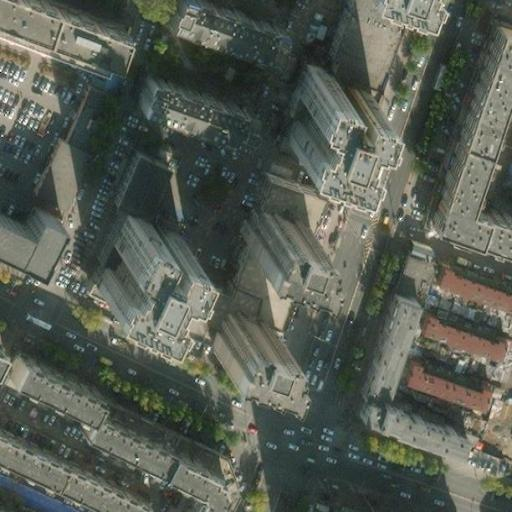building: (424, 20, 512, 235), (0, 421, 150, 512), (77, 208, 174, 311), (133, 64, 264, 140), (275, 44, 369, 142), (161, 0, 291, 55), (348, 394, 459, 456), (357, 297, 414, 403), (313, 0, 393, 70), (225, 244, 290, 327), (156, 440, 226, 512), (84, 403, 169, 461), (16, 353, 101, 410), (195, 303, 270, 361), (231, 203, 303, 260), (413, 313, 498, 360), (105, 153, 162, 220), (61, 78, 111, 148), (404, 365, 485, 408), (432, 265, 511, 308), (0, 196, 59, 252), (250, 177, 310, 223), (387, 238, 429, 295), (464, 444, 512, 477), (389, 358, 411, 383)
